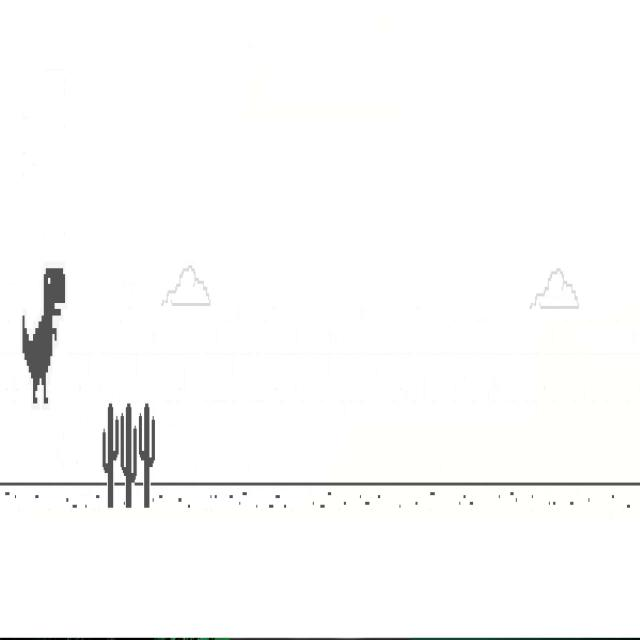cacto: (138, 403, 156, 509), (120, 403, 137, 509), (103, 403, 119, 509)
dino: (23, 267, 66, 405)
